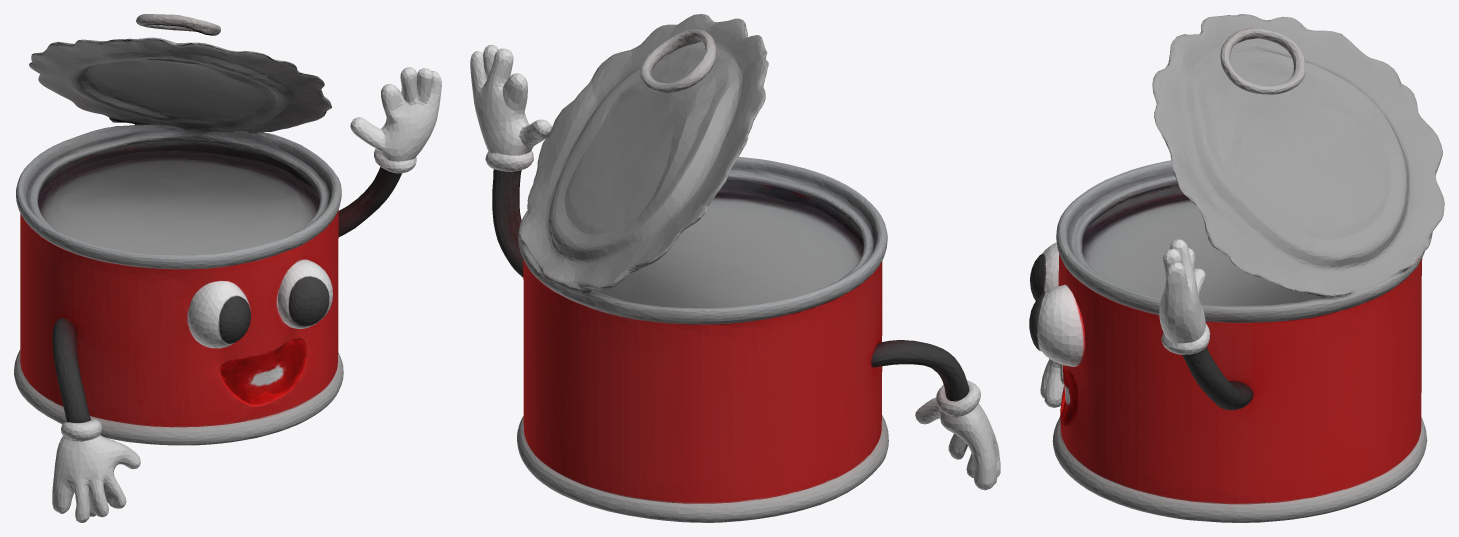
Rendered from Copilot3D-5fb5c19f-1eff-4f19-9d79-f86687d8b108 1.glb.
3 renders of one model, left to right at view 1: azimuth 30°, elevation 25°; view 2: azimuth 150°, elevation 25°; view 3: azimuth 270°, elevation 25°, orthographic. The views are drawn at different scales.
Visible parts, largest first — view 1: world; view 2: world; view 3: world.
Part boxes in pixels (x1=…): world: x1=14, y1=14, x2=441, y2=522; world: x1=470, y1=14, x2=1000, y2=522; world: x1=1029, y1=14, x2=1444, y2=522.
Size of the model in its own units: 0.9956 by 0.9165 by 0.7465.
Materials: 1 (1 with a texture image).
